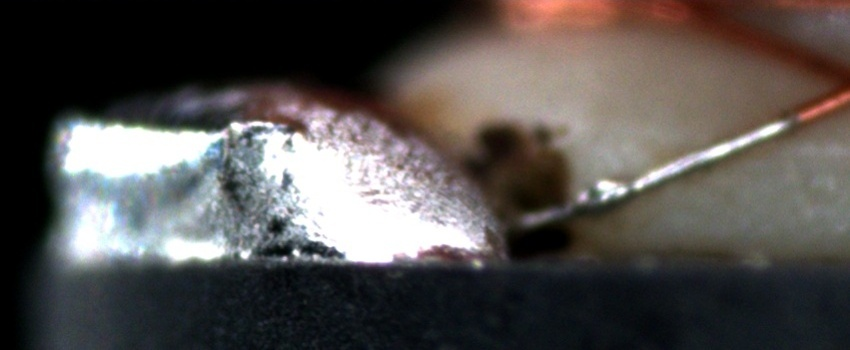DL: (755, 117, 849, 181)
TB: (570, 173, 633, 217)
TS: (501, 112, 798, 228)
TTCW: (506, 92, 838, 233)
